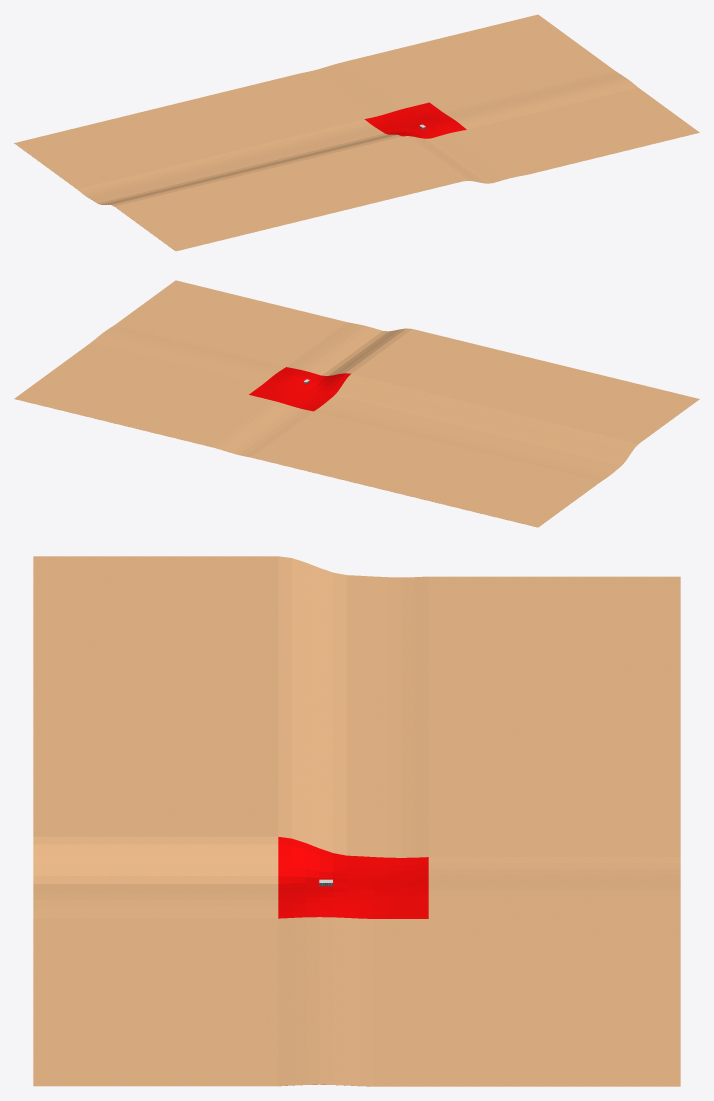
The model's file is chap_5_cottage.glb.
3 renders of one model, top to bottom at view 1: azimuth 30°, elevation 25°; view 2: azimuth 150°, elevation 25°; view 3: azimuth 270°, elevation 25°, orthographic. The views are drawn at different scales.
Visible parts, largest first — view 1: Cube.005, Cube.001; view 2: Cube.005, Cube.001; view 3: Cube.005, Cube.001.
Part boxes in pixels (bbox=[...]): Cube.005: bbox=[14, 14, 699, 251]; Cube.001: bbox=[364, 102, 466, 138]; Cube.005: bbox=[14, 280, 699, 527]; Cube.001: bbox=[249, 367, 350, 411]; Cube.005: bbox=[33, 556, 680, 1086]; Cube.001: bbox=[278, 837, 428, 918].
Bounding box in the file's own units: 3914 × 80.02 × 2091.
5 materials, 2 textured.
